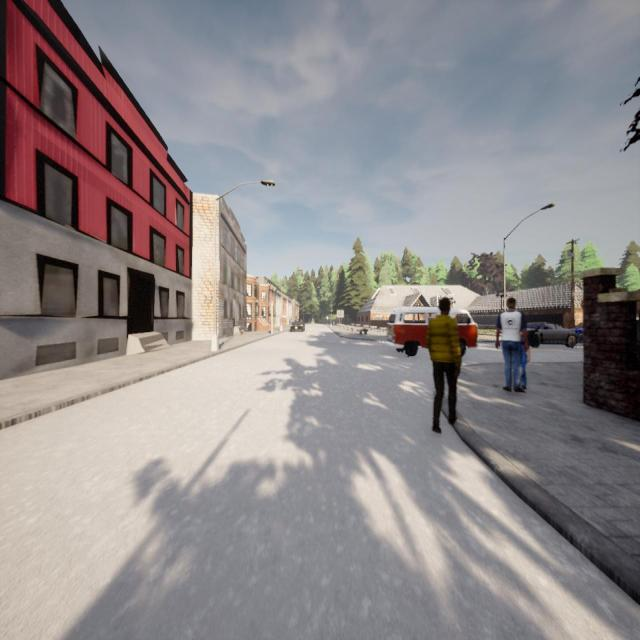Pedestrian: (426, 296, 461, 432), (496, 297, 528, 392)
Traffic_Signs: (326, 316, 329, 320)
Vehicle: (386, 307, 479, 358), (527, 321, 577, 349), (570, 321, 584, 344), (290, 318, 306, 332)
